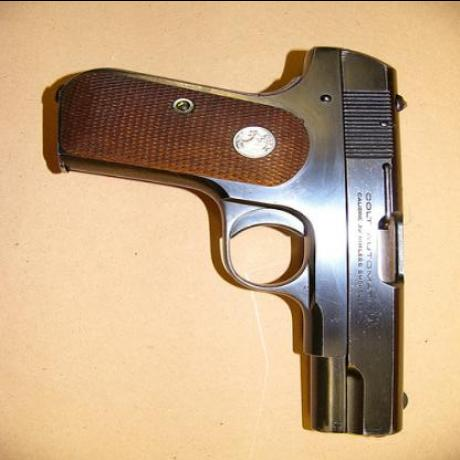weapon: (41, 27, 423, 442)
